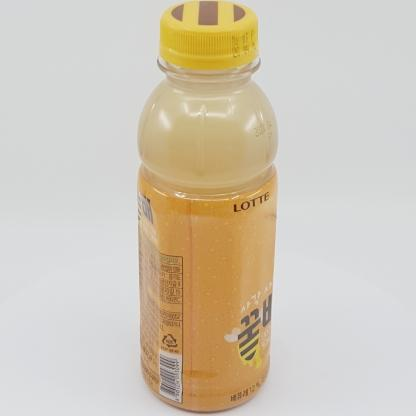--------380ML: (137, 0, 279, 412)
